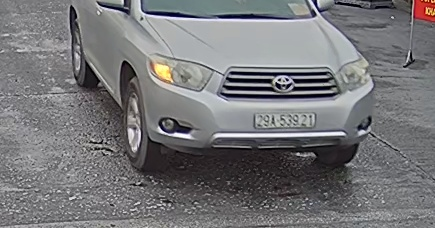vehicle plate: (251, 111, 319, 130)
